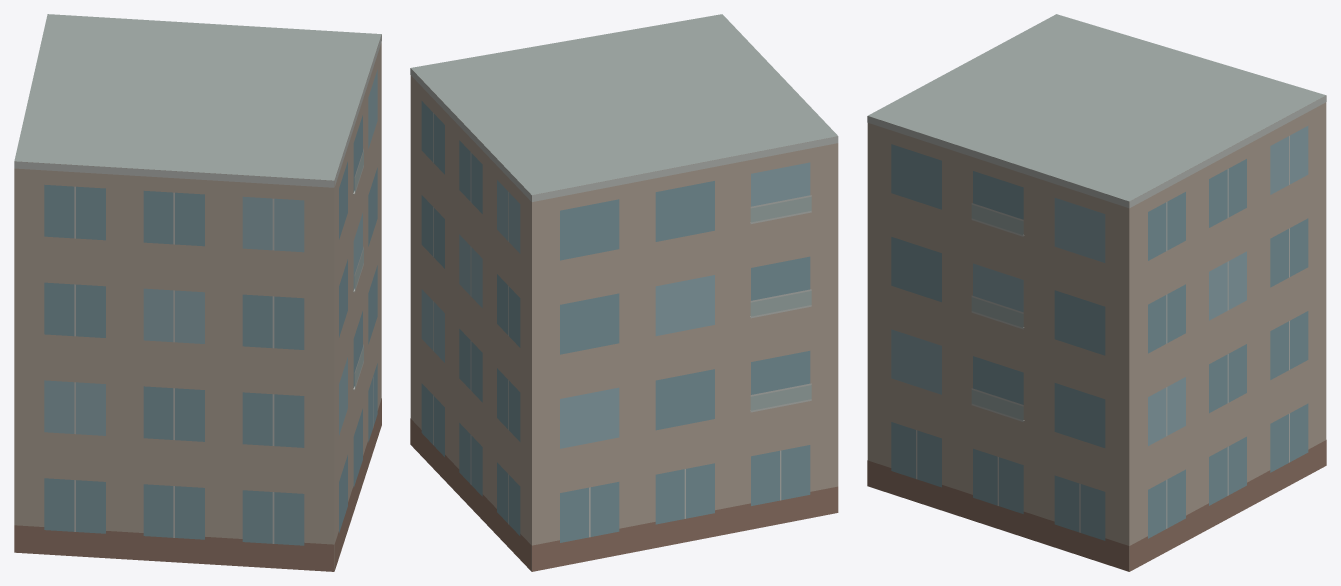
Rendered from survey-upis-32817427.glb.
3 views of the same model, side by side, from view 1: azimuth 30°, elevation 25°; view 2: azimuth 150°, elevation 25°; view 3: azimuth 270°, elevation 25° (orthographic). The views are drawn at different scales.
Parts seen in each view (by area): view 1: survey-upis-32817427.tmp; view 2: survey-upis-32817427.tmp; view 3: survey-upis-32817427.tmp.
Part boxes in pixels (x1,y1,x2,y2): survey-upis-32817427.tmp: [14, 14, 381, 571]; survey-upis-32817427.tmp: [410, 14, 838, 571]; survey-upis-32817427.tmp: [867, 14, 1326, 571].
Bounding box in the file's own units: 14.34 × 13.2 × 14.83.
